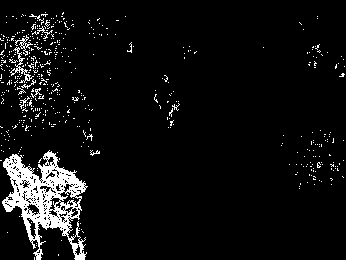person: (38, 150, 88, 260), (3, 153, 50, 260)
